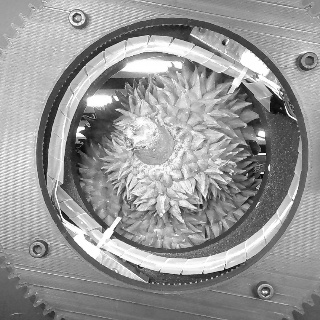base: (133, 138, 183, 171)
end: (125, 116, 160, 150)
